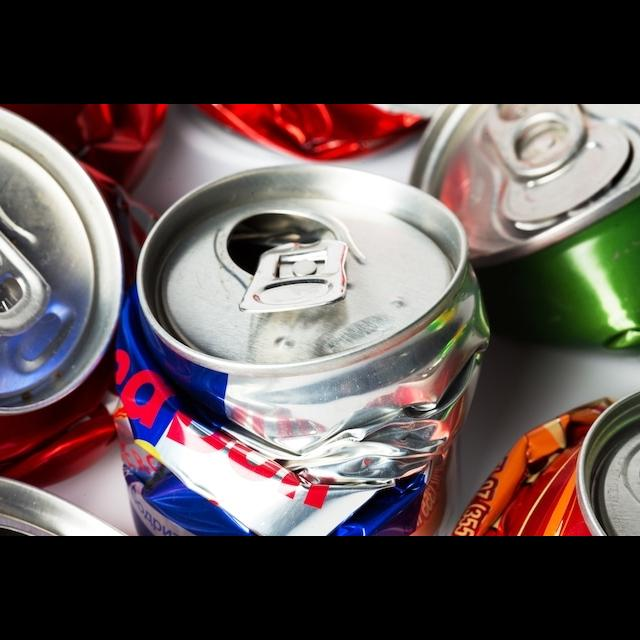metal: (102, 155, 494, 535), (394, 104, 640, 377), (0, 104, 143, 485), (442, 373, 640, 535)
